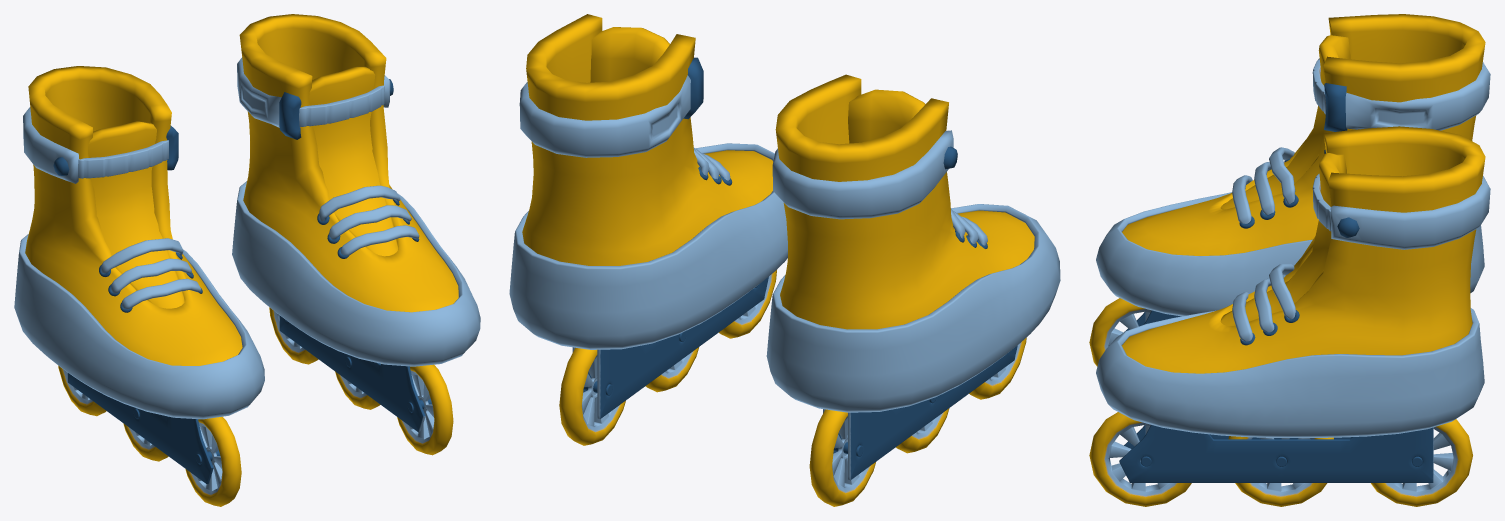
The model's file is Skater.obj.
The picture shows the model from 3 angles, left to right: view 1: azimuth 30°, elevation 25°; view 2: azimuth 150°, elevation 25°; view 3: azimuth 270°, elevation 25°; orthographic projection. The views are drawn at different scales.
Visible parts, largest first — view 1: SkaterL Skater, Skater SkaterR; view 2: Skater SkaterR, SkaterL Skater; view 3: SkaterL Skater, Skater SkaterR.
Part boxes in pixels (left/top/right/bottom): SkaterL Skater: left=232, top=14, right=480, bottom=455; Skater SkaterR: left=14, top=66, right=264, bottom=506; Skater SkaterR: left=766, top=74, right=1060, bottom=506; SkaterL Skater: left=509, top=14, right=787, bottom=445; SkaterL Skater: left=1089, top=126, right=1490, bottom=506; Skater SkaterR: left=1089, top=14, right=1490, bottom=366.
Size of the model in its own units: 26.53 by 21.86 by 22.54.
1 material, 1 textured.
